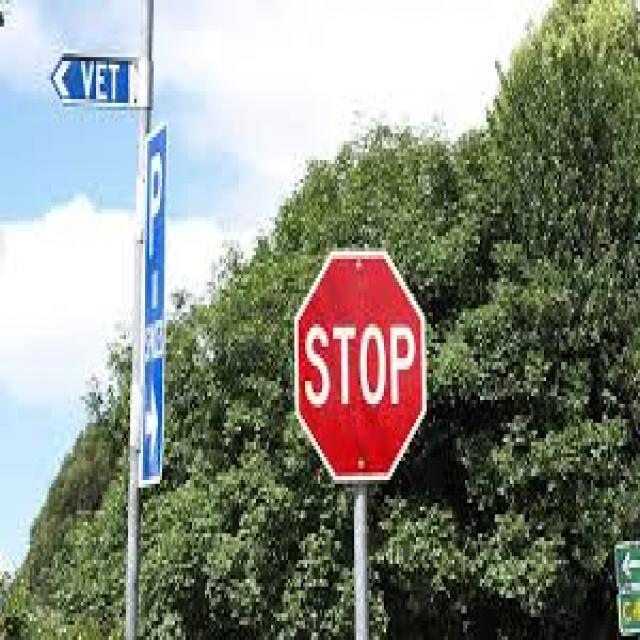stop-sign: (246, 174, 476, 476)
